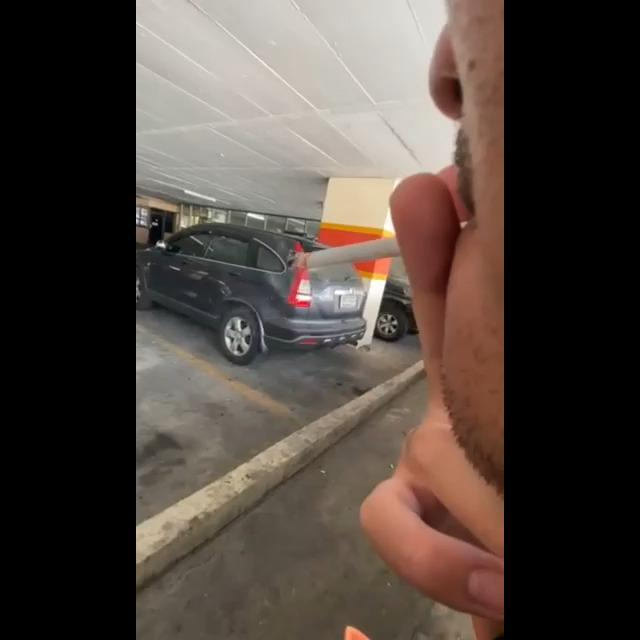rokok: (281, 222, 454, 284)
